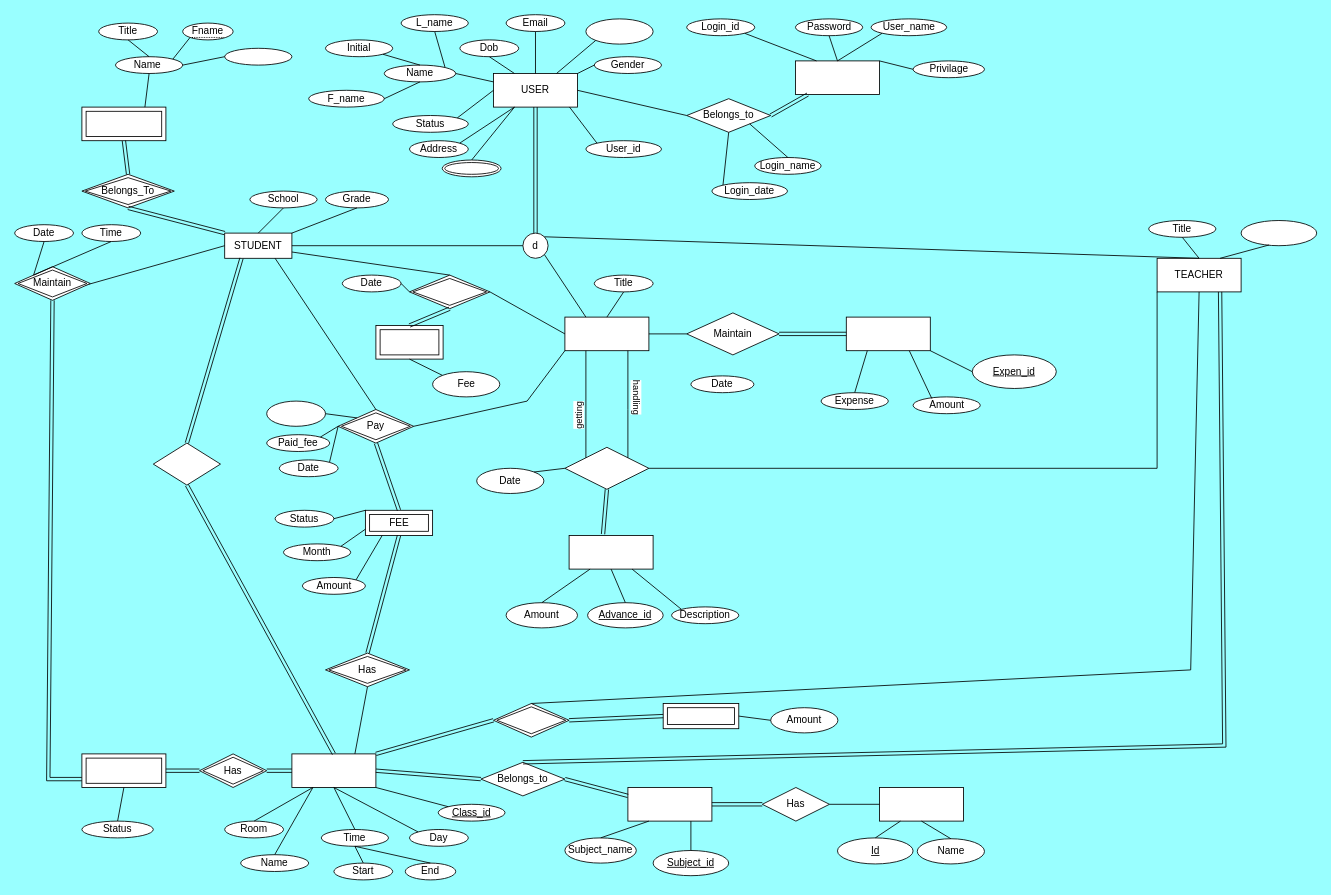
The diagram is 1331 pixels wide and 895 high, and some of its shapes have lost their labels. Here are the shapes that lost their labels. From the top down, the centre of each, then its label:
At pixel 619 31: "Joined_date".
At pixel 837 77: "LOGIN".
At pixel 123 123: "PARENT".
At pixel 471 168: "Tele".
At pixel 1278 233: "Qualification".
At pixel 449 291: "Register".
At pixel 409 342: "ADMITION".
At pixel 606 333: "STAFF".
At pixel 887 333: "EXPENDITURE".
At pixel 296 413: "Paid_month".
At pixel 186 463: "Participate".
At pixel 606 467: "Get".
At pixel 610 552: "ADVANCE".
At pixel 531 720: "Assign".
At pixel 700 716: "CLASS_FEE".
At pixel 123 770: "ATTENDANCE".
At pixel 333 770: "CLASS".
At pixel 669 804: "SUBJECT".
At pixel 921 804: "CATEGORY".
